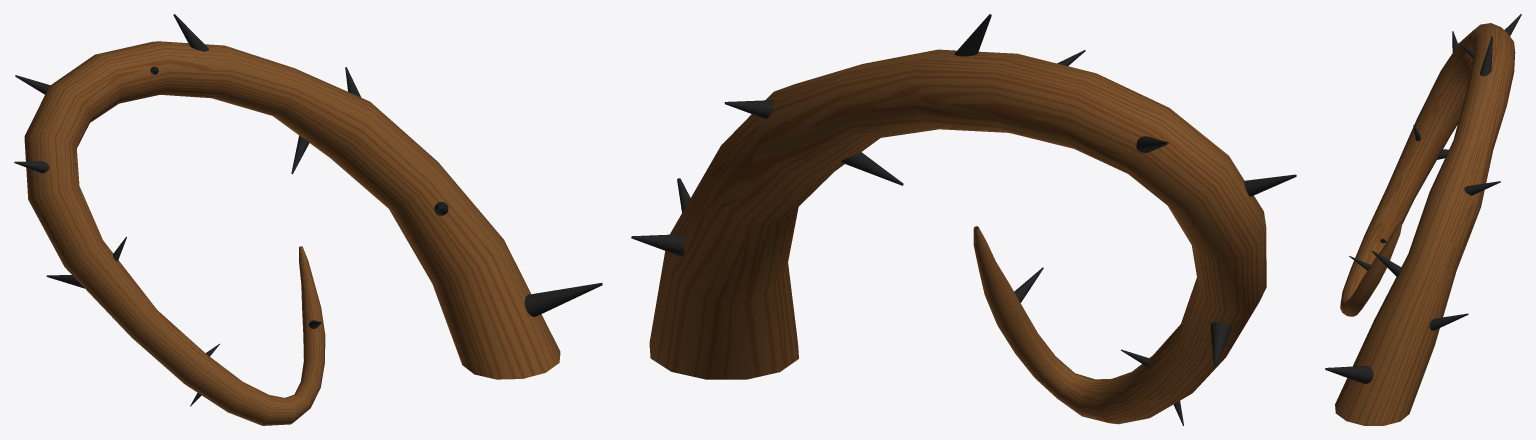
File: Spike_1.fbx
3 renders of one model, left to right at view 1: azimuth 30°, elevation 25°; view 2: azimuth 150°, elevation 25°; view 3: azimuth 270°, elevation 25°, orthographic. The views are drawn at different scales.
Visible parts, largest first — view 1: Spikes_1; view 2: Spikes_1; view 3: Spikes_1.
Part boxes in pixels (x1,y1,x2,y2): Spikes_1: [14, 14, 602, 425]; Spikes_1: [631, 14, 1296, 425]; Spikes_1: [1325, 14, 1521, 425].
Size of the model in its own units: 128 by 84.72 by 55.09.
